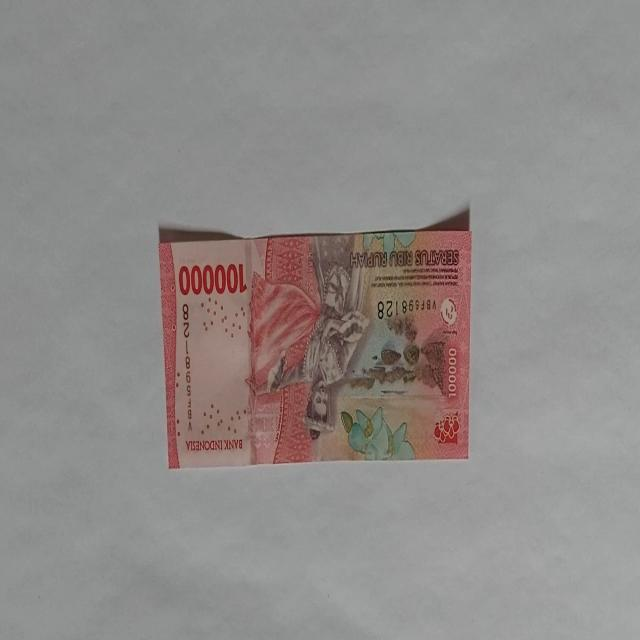seratus ribu rupiah: (158, 227, 472, 468), (262, 258, 370, 438)
